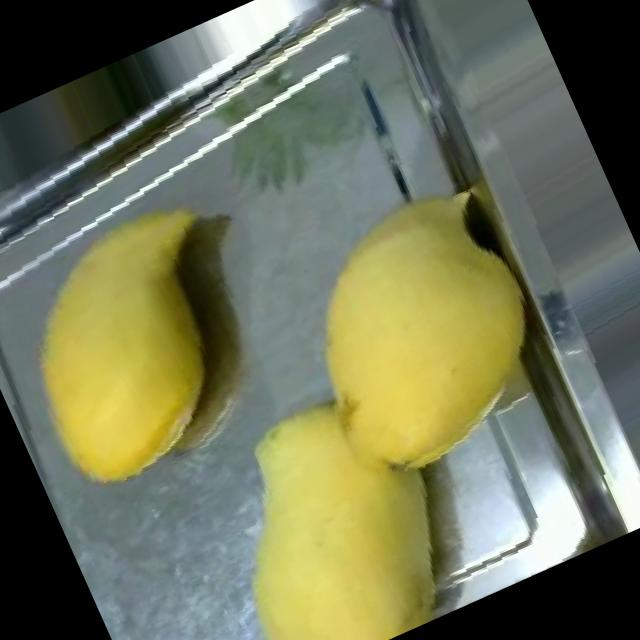fruit: (249, 152, 588, 514), (166, 345, 498, 640), (0, 186, 265, 514)
